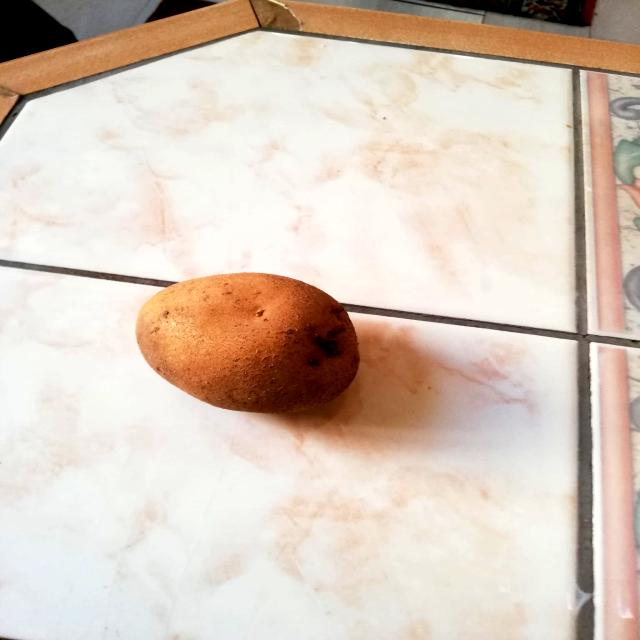potato: (126, 264, 372, 418)
